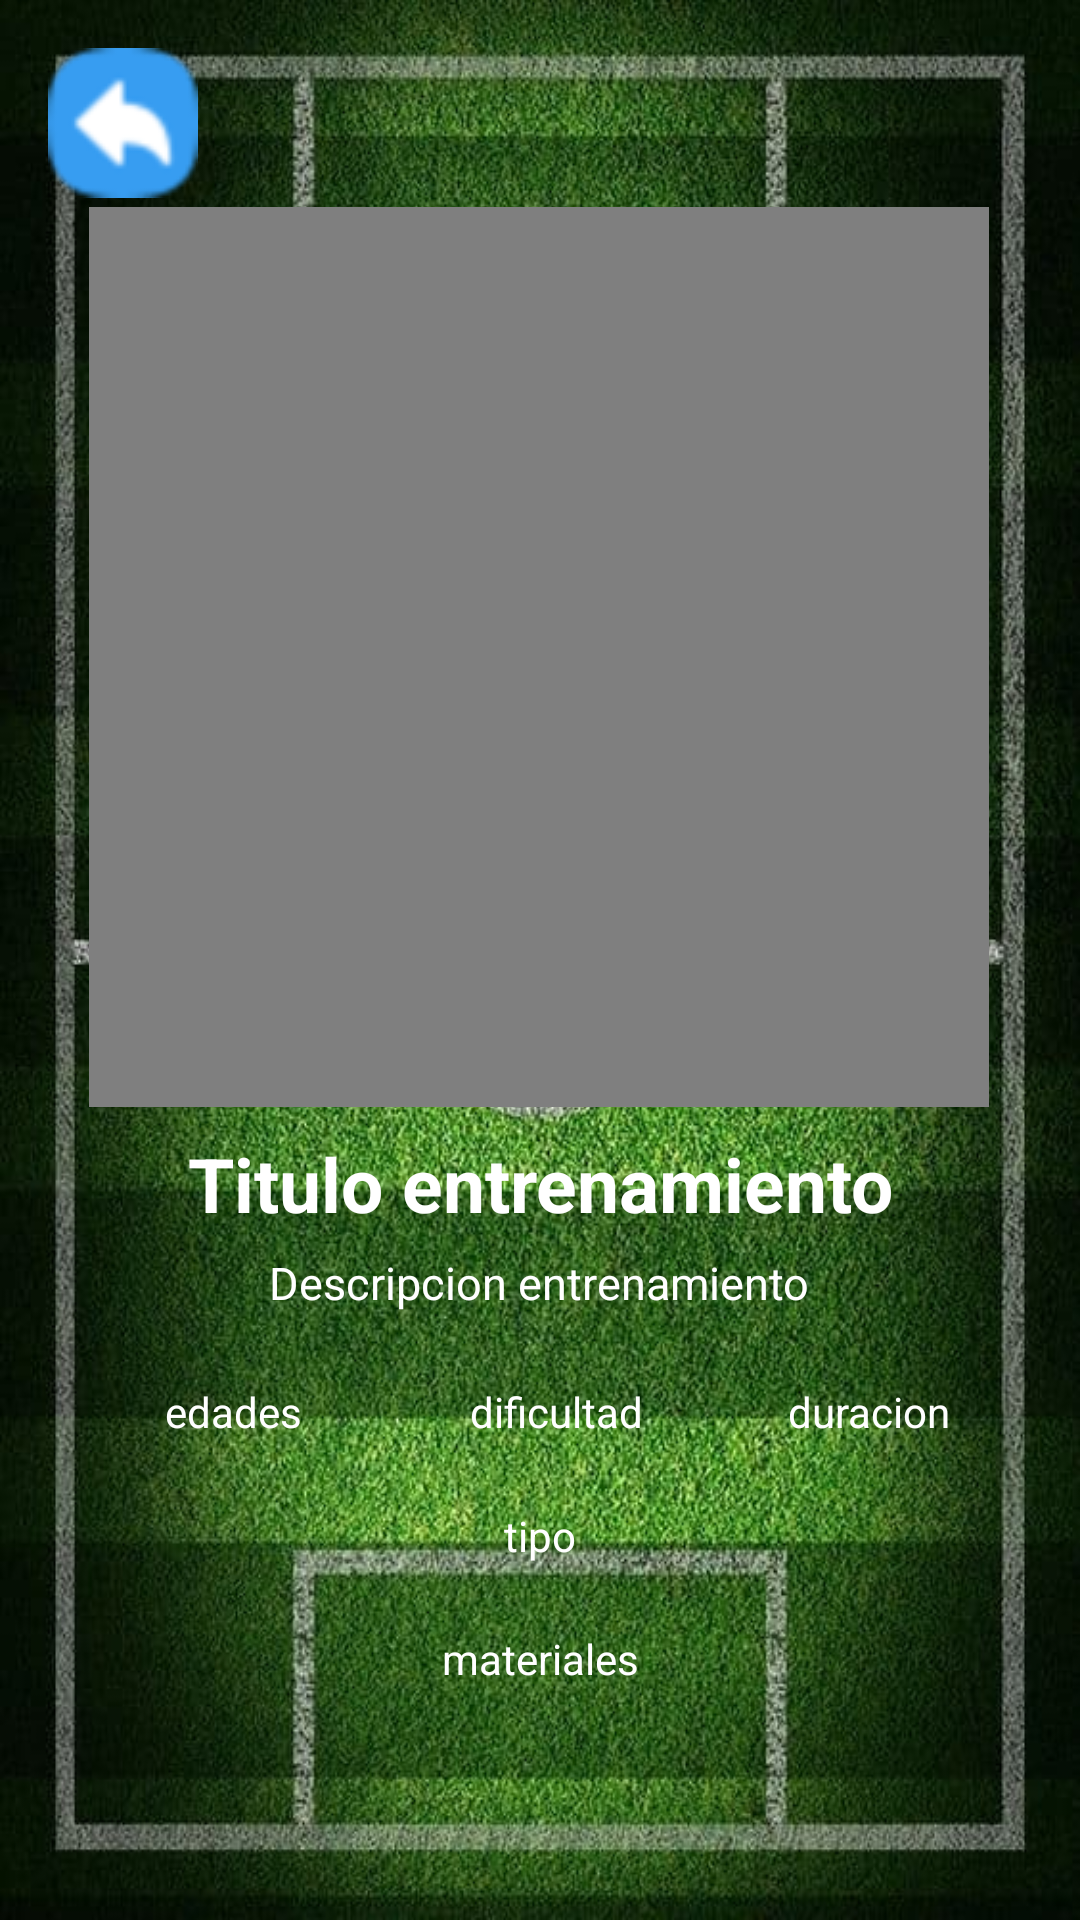

Screen size 1080×1920. Icon name, then its box in pixels as (x1, y1, x2, y2):
atras: (48, 48, 198, 198)
